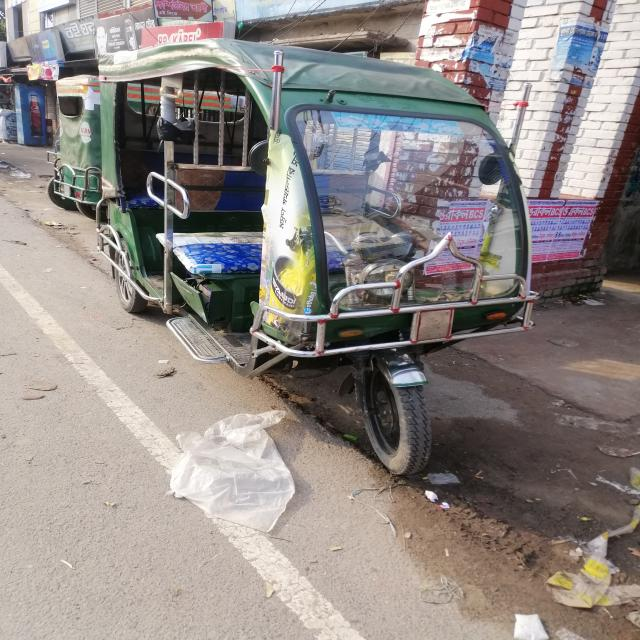Easybike: (68, 31, 552, 491)
